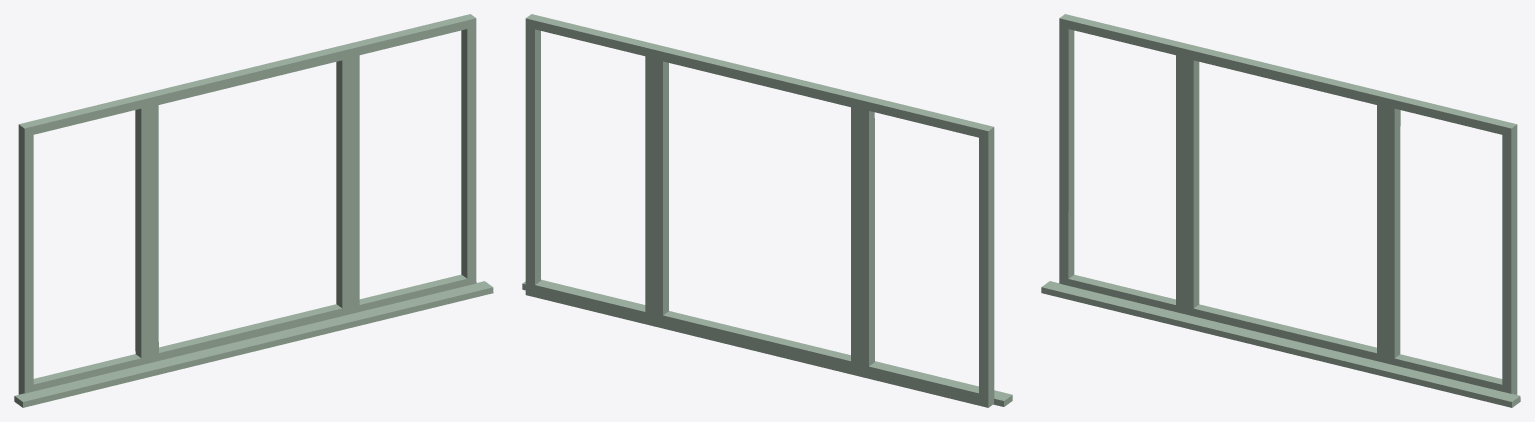
Rendered from WindowFrame.fbx.
3 renders of one model, left to right at view 1: azimuth 30°, elevation 25°; view 2: azimuth 150°, elevation 25°; view 3: azimuth 330°, elevation 25°, orthographic. The views are drawn at different scales.
Parts seen in each view (by area): view 1: WindowFrame4m.003; view 2: WindowFrame4m.003; view 3: WindowFrame4m.003.
Part boxes in pixels (bbox=[...]): WindowFrame4m.003: bbox=[14, 14, 493, 407]; WindowFrame4m.003: bbox=[522, 14, 1012, 407]; WindowFrame4m.003: bbox=[1041, 14, 1520, 407].
Bounding box in the file's own units: 313 × 172 × 16.17.
